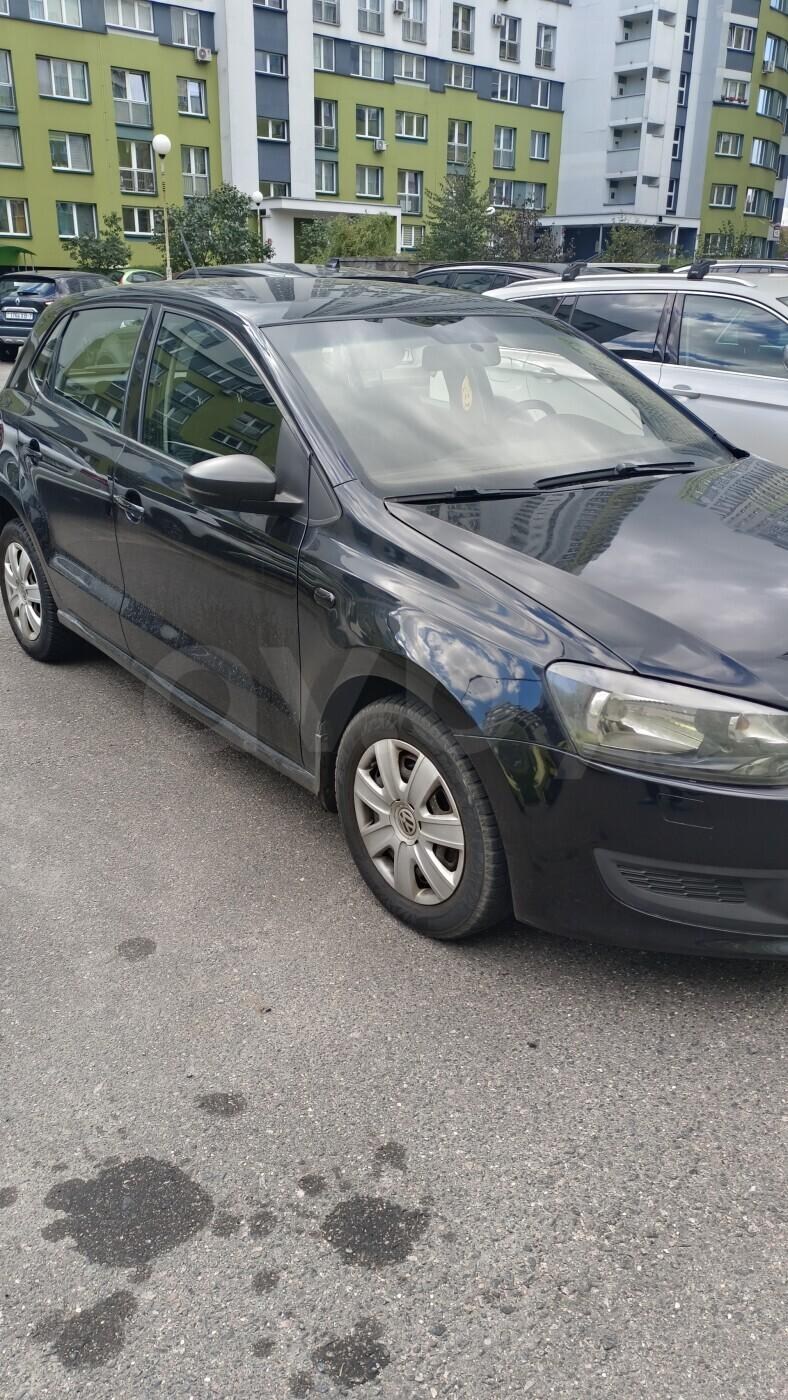Polo_2009-2015: (0, 272, 787, 1014)
